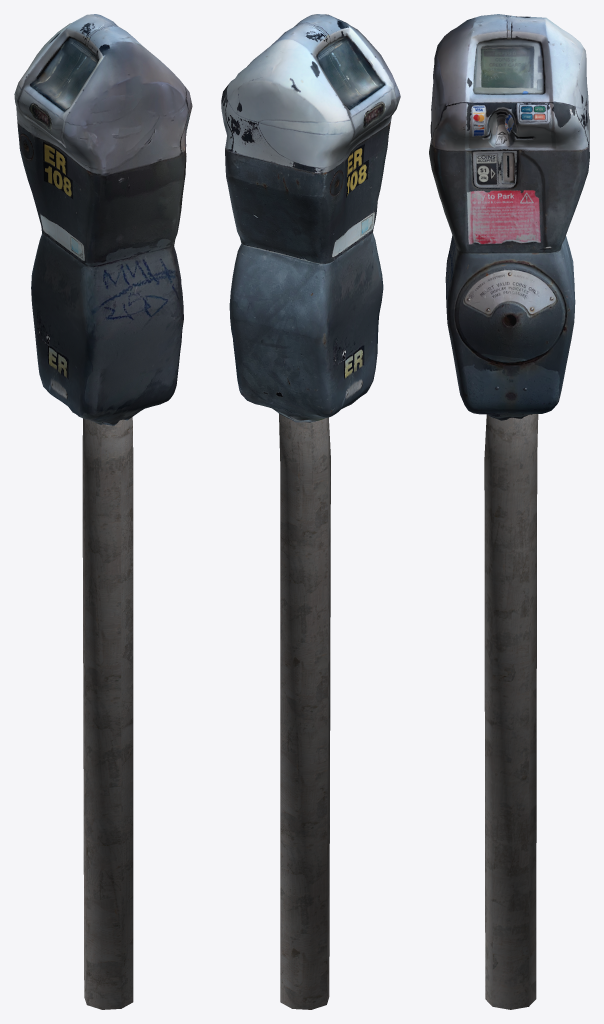
Rendered from parking_meter_scan_lowpoly.glb.
3 renders of one model, left to right at view 1: azimuth 30°, elevation 25°; view 2: azimuth 150°, elevation 25°; view 3: azimuth 270°, elevation 25°, orthographic.
Parts seen in each view (by area): view 1: ParkingMeterSingle.002; view 2: ParkingMeterSingle.002; view 3: ParkingMeterSingle.002.
Boxes of the visible parts, left/top/right/bottom form: ParkingMeterSingle.002: left=14, top=14, right=192, bottom=1009; ParkingMeterSingle.002: left=221, top=14, right=400, bottom=1009; ParkingMeterSingle.002: left=429, top=14, right=589, bottom=1009.
Bounding box in the file's own units: 0.2179 × 1.52 × 0.2256.
Materials: 1 (1 with a texture image).
